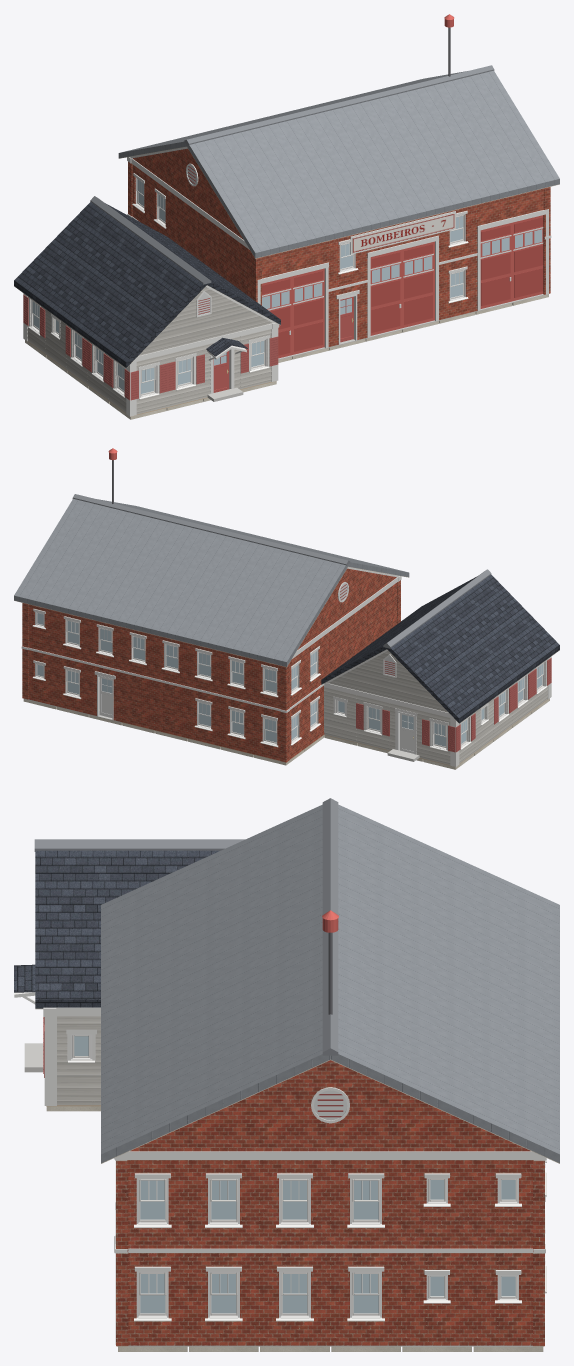
The model's file is building_assembled.glb.
3 views of the same model, one above another, from view 1: azimuth 30°, elevation 25°; view 2: azimuth 150°, elevation 25°; view 3: azimuth 270°, elevation 25° (orthographic). The views are drawn at different scales.
Parts seen in each view (by area): view 1: building_metal_roof, building_shingle, building_brick, building_trim, building_bay_panel, building_siding, building_glass, building_bay_red, building_ridge, building_shutter, building_plaster, building_sign (+5 smaller); view 2: building_metal_roof, building_brick, building_shingle, building_siding, building_trim, building_glass, building_frame, building_sash, building_ridge, building_plaster, building_shutter, building_shutter_dark (+1 smaller); view 3: building_metal_roof, building_brick, building_shingle, building_trim, building_glass, building_ridge, building_sash, building_plaster, building_frame, building_siding, building_concrete, building_vent.
Part boxes in pixels (x1,y1,x2,y2): building_metal_roof: [118, 70, 559, 258]; building_shingle: [14, 202, 280, 367]; building_brick: [128, 148, 550, 346]; building_trim: [23, 147, 551, 416]; building_bay_panel: [262, 217, 543, 355]; building_siding: [27, 287, 272, 414]; building_glass: [32, 179, 542, 393]; building_bay_red: [262, 215, 543, 358]; building_ridge: [90, 65, 494, 284]; building_shutter: [23, 294, 278, 400]; building_plaster: [14, 146, 559, 419]; building_sign: [352, 213, 454, 253]; building_metal_roof: [14, 498, 409, 666]; building_brick: [22, 568, 400, 762]; building_shingle: [321, 574, 559, 723]; building_siding: [324, 651, 547, 764]; building_trim: [21, 567, 551, 766]; building_glass: [37, 613, 543, 746]; building_frame: [35, 612, 544, 754]; building_sash: [36, 612, 543, 747]; building_ridge: [72, 494, 491, 648]; building_plaster: [14, 566, 559, 769]; building_shutter: [356, 658, 551, 752]; building_shutter_dark: [340, 584, 551, 750]; building_metal_roof: [101, 804, 559, 1163]; building_brick: [116, 1060, 544, 1346]; building_shingle: [14, 850, 219, 1008]; building_trim: [14, 992, 546, 1344]; building_glass: [74, 1036, 515, 1313]; building_ridge: [34, 798, 338, 1055]; building_sash: [72, 1035, 517, 1315]; building_plaster: [35, 1008, 559, 1351]; building_frame: [71, 1034, 518, 1317]; building_siding: [57, 1016, 100, 1105]; building_concrete: [24, 1043, 401, 1346]; building_vent: [314, 1090, 347, 1120].
Size of the model in its own units: 24.72 by 12.78 by 15.35.
26 materials, 6 textured.
